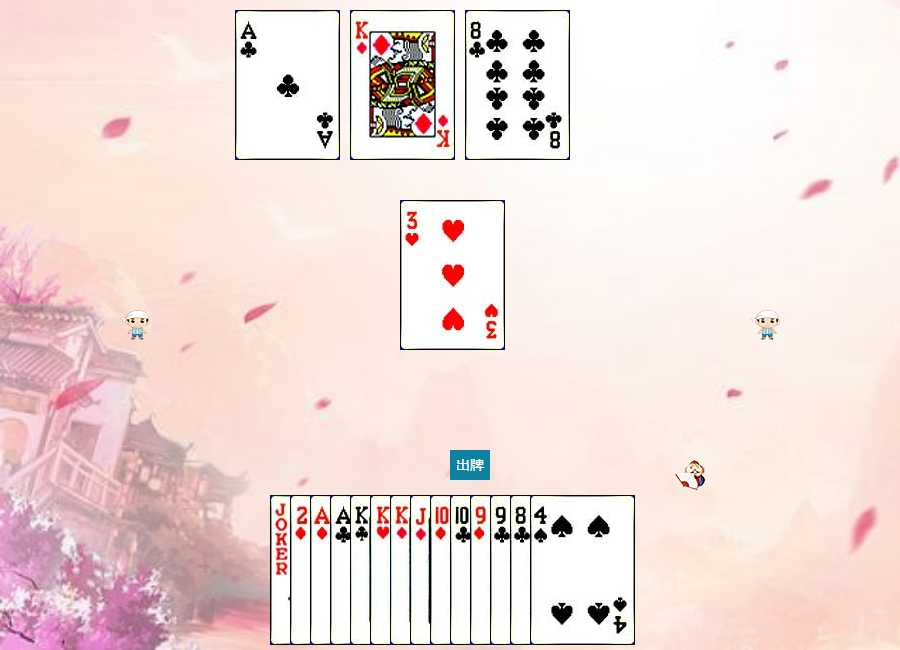10~1: (430, 495, 535, 645)
10~2: (450, 495, 555, 645)
11~1: (410, 495, 515, 645)
13~1: (350, 10, 455, 160), (390, 495, 495, 645)
13~2: (350, 495, 455, 645)
13~3: (370, 495, 475, 645)
14~1: (310, 495, 415, 645)
14~2: (235, 10, 340, 160), (330, 495, 435, 645)
15~1: (290, 495, 395, 645)
18~4: (270, 495, 375, 645)
3~3: (400, 200, 505, 350)
4~4: (530, 495, 635, 645)
8~2: (465, 10, 570, 160), (510, 495, 615, 645)
9~1: (470, 495, 575, 645)
9~2: (490, 495, 595, 645)
